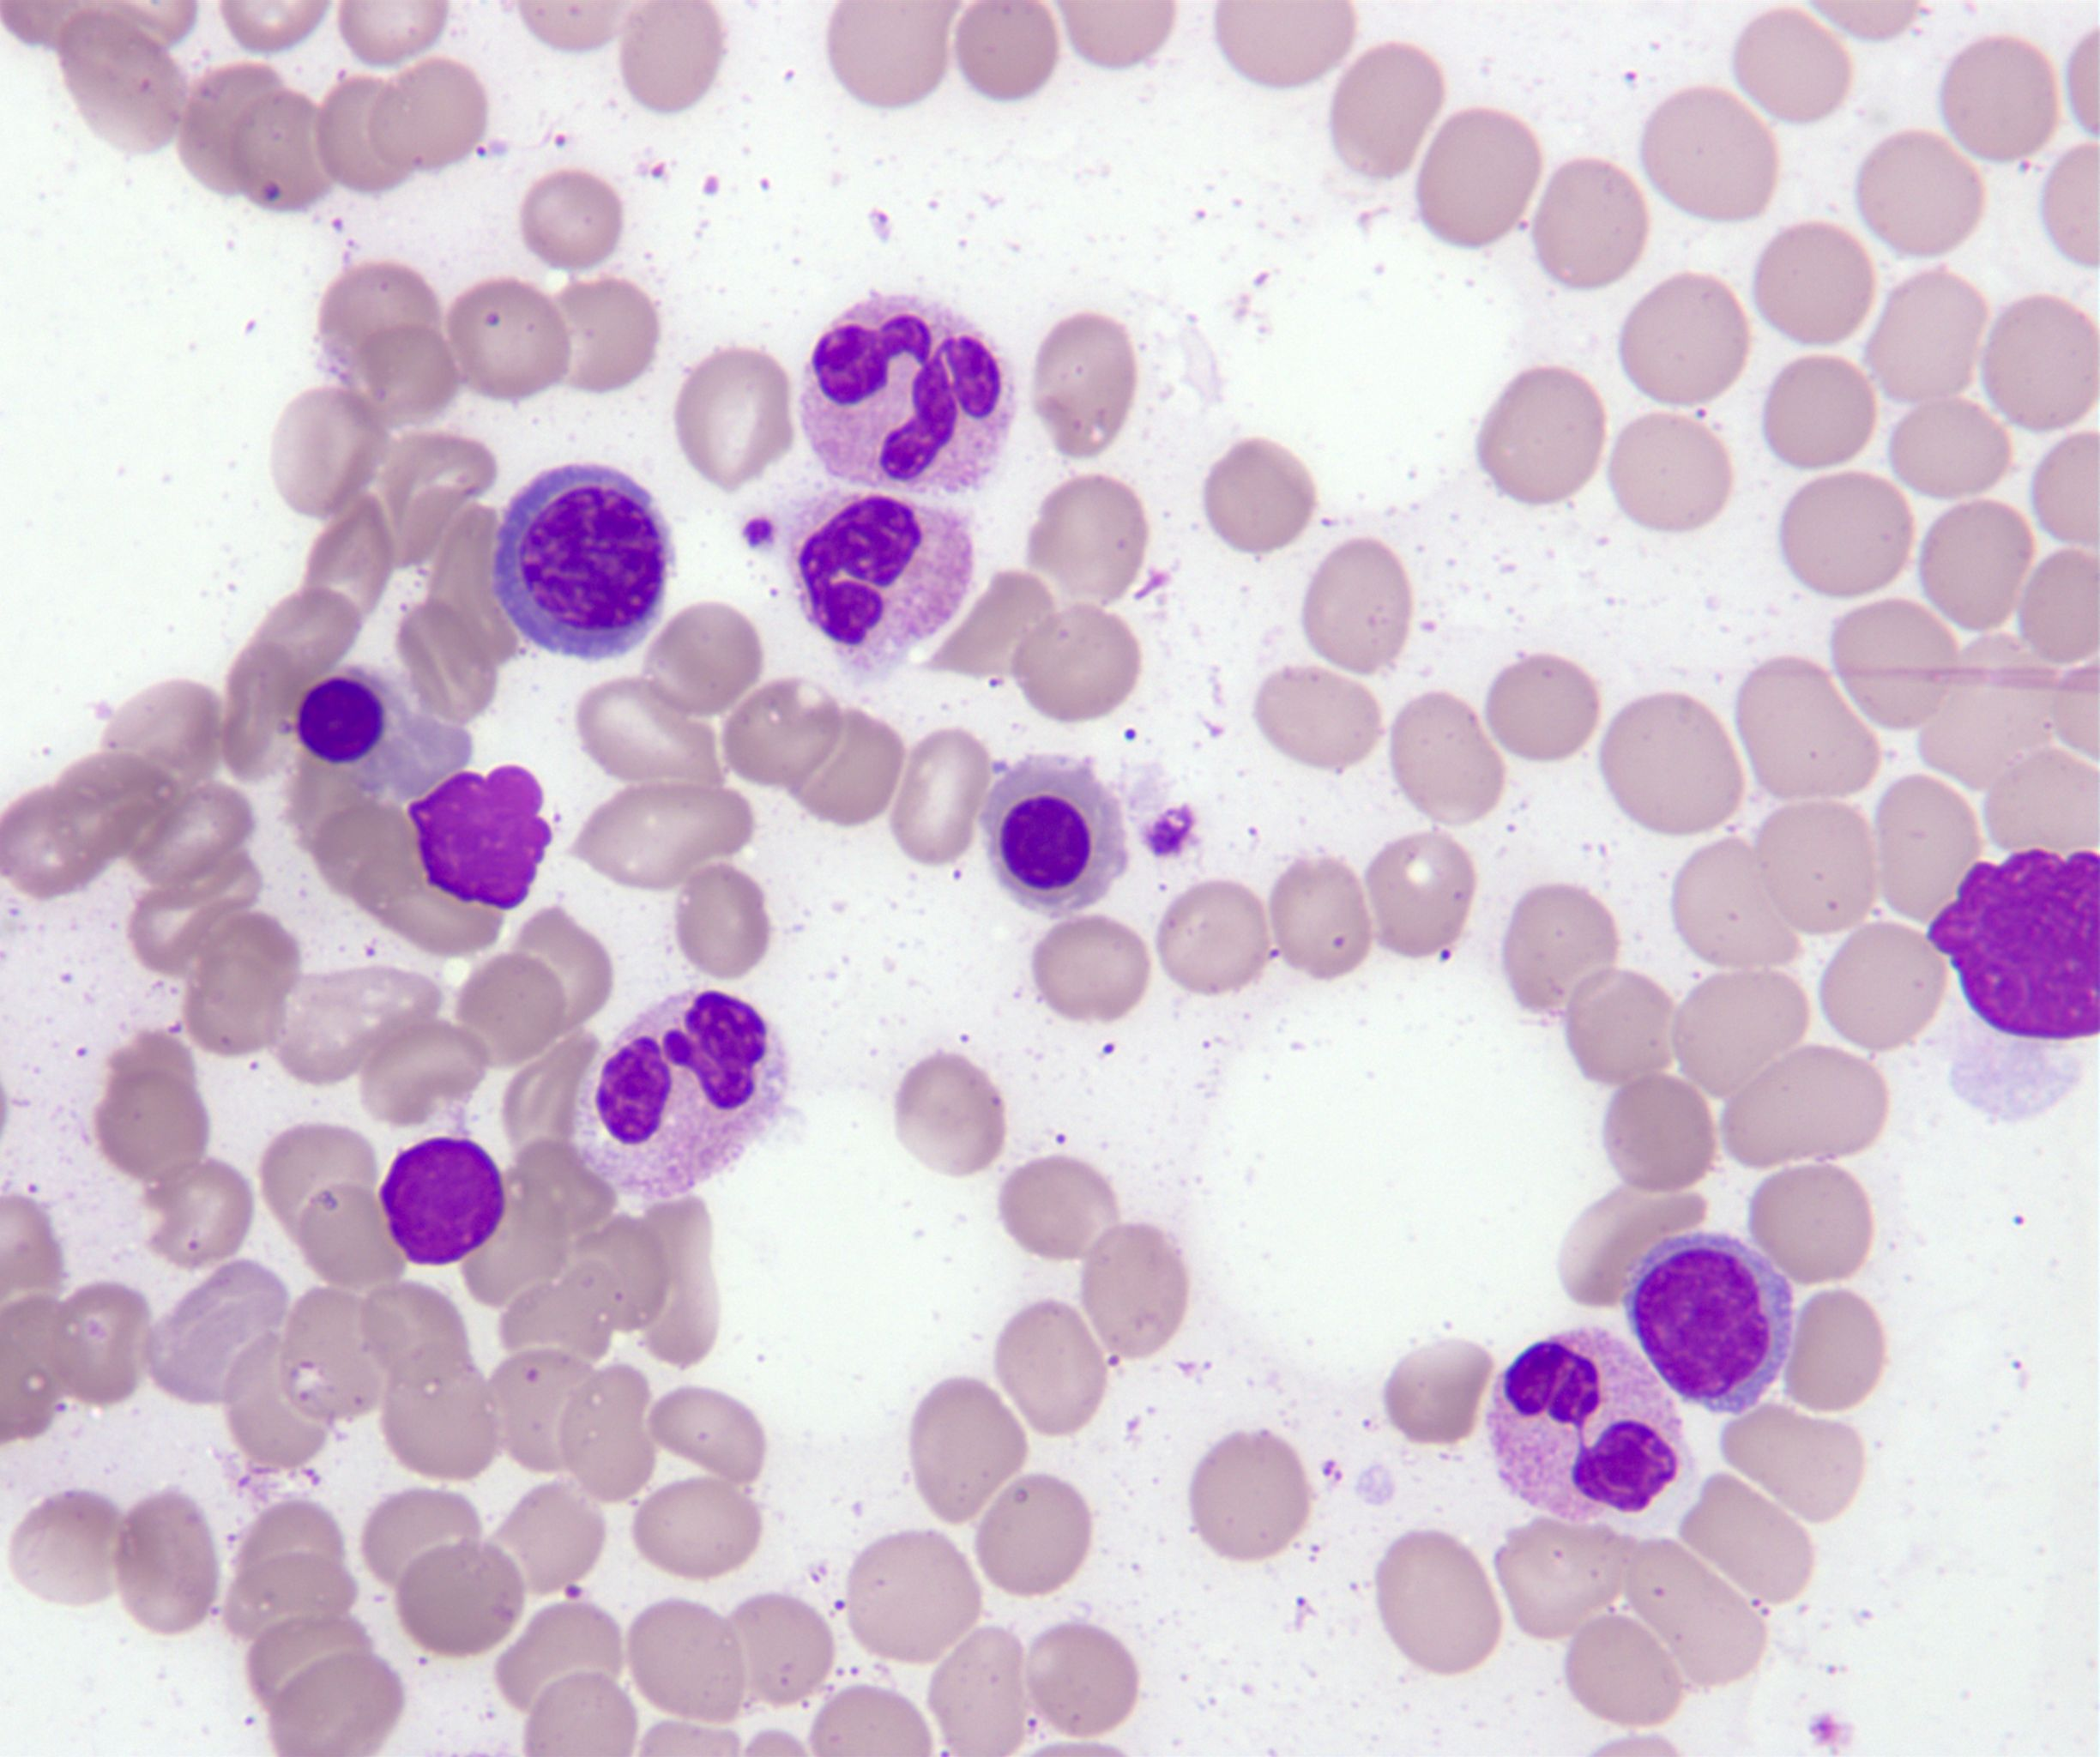23: (492, 464, 673, 661)
24: (298, 667, 473, 801), (977, 757, 1125, 913)
32: (1622, 1234, 1793, 1415)
5: (788, 489, 973, 675)
6: (574, 991, 788, 1197), (799, 295, 1017, 496), (1486, 1328, 1692, 1523)
x: (1926, 850, 2100, 1040), (405, 764, 553, 909), (377, 1136, 506, 1265)
